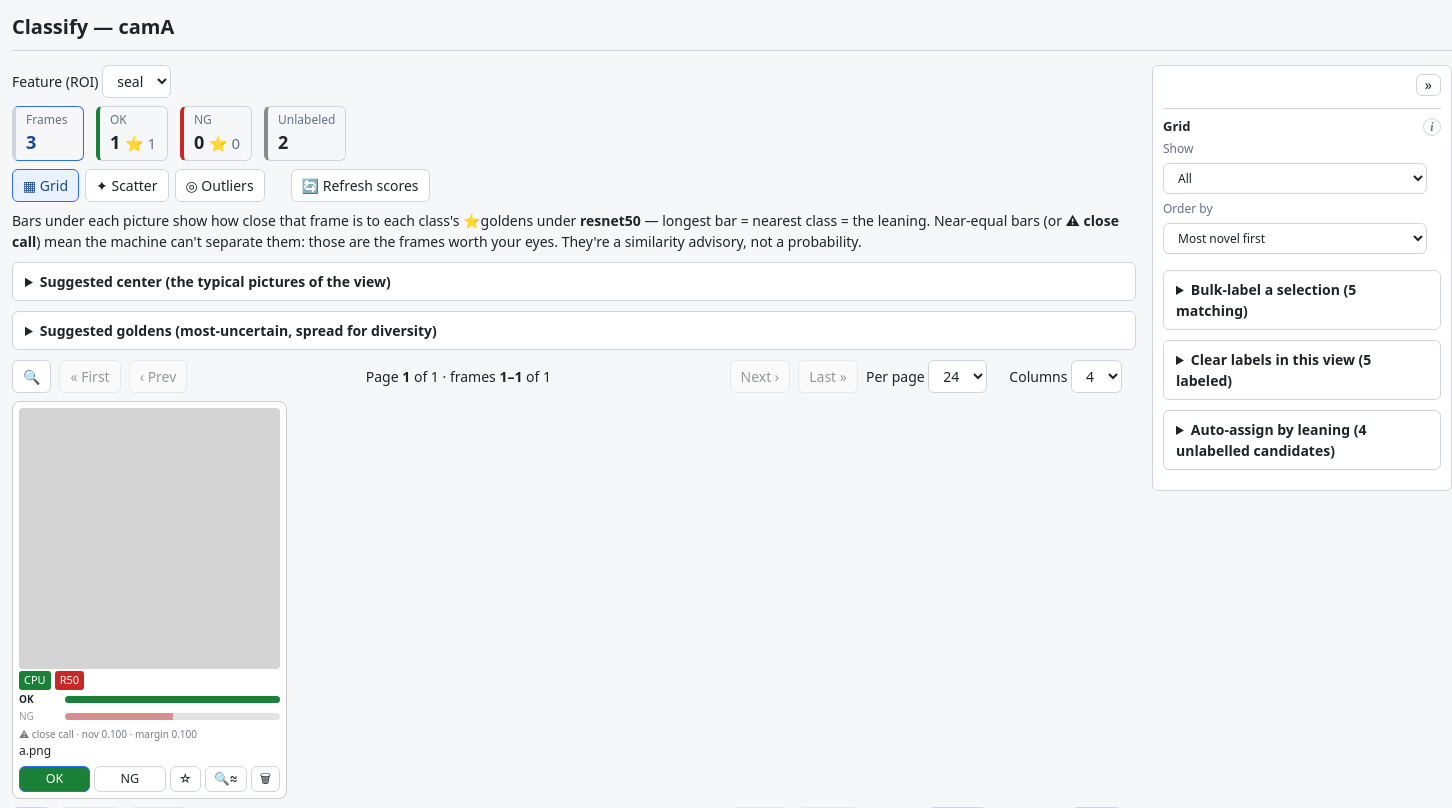
Test: star sends golden=true and counts update from the response
Click the button named "Make golden": (185, 779) left=170, top=766, right=201, bottom=792
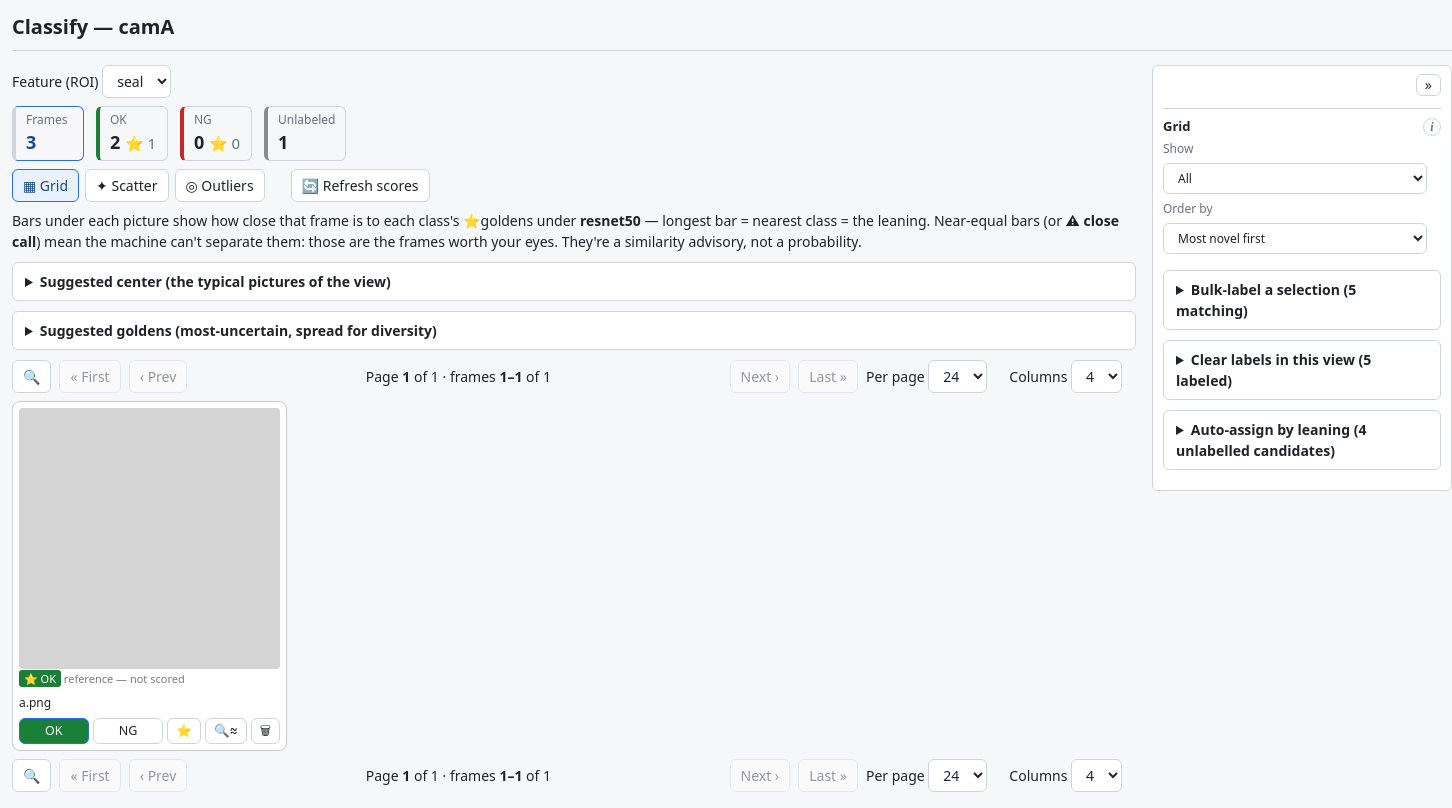
Expected: the text "3" is shown, left=26, top=129, right=36, bottom=156
Result: the button named "Remove golden" is shown at left=167, top=718, right=201, bottom=744
